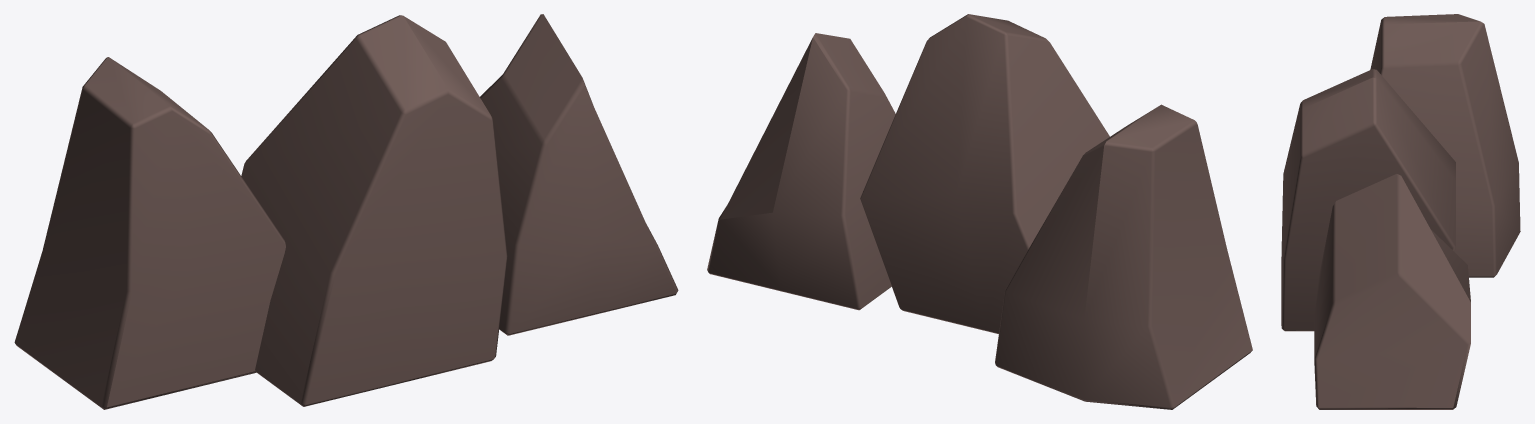
File: Rocks1.fbx
3 views of the same model, side by side, from view 1: azimuth 30°, elevation 25°; view 2: azimuth 150°, elevation 25°; view 3: azimuth 270°, elevation 25° (orthographic). The views are drawn at different scales.
Parts seen in each view (by area): view 1: pCube26; view 2: pCube26; view 3: pCube26.
Part boxes in pixels (x1=…): pCube26: x1=14, y1=14, x2=678, y2=409; pCube26: x1=707, y1=14, x2=1252, y2=409; pCube26: x1=1281, y1=14, x2=1520, y2=409.
Size of the model in its own units: 7.06 by 3.82 by 3.41.
